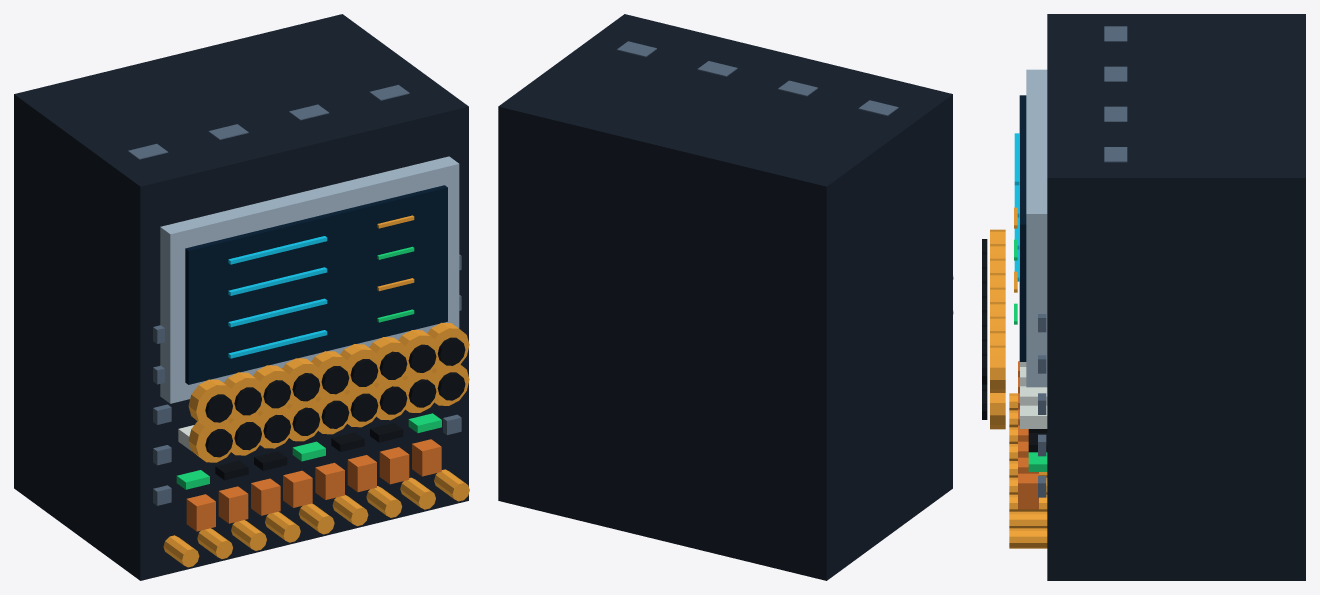
The model's file is 80_L88_ECLSSMasterPLC.fbx.
The picture shows the model from 3 angles, left to right: view 1: azimuth 30°, elevation 25°; view 2: azimuth 150°, elevation 25°; view 3: azimuth 270°, elevation 25°; orthographic projection. The views are drawn at different scales.
Visible parts, largest first — view 1: L87_ECLSSMasterPLC_Part_0000, L87_ECLSSMasterPLC_Part_0002, L87_ECLSSMasterPLC_Part_0001, L87_ECLSSMasterPLC_Part_0009, L87_ECLSSMasterPLC_Part_0004, L87_ECLSSMasterPLC_Part_0008, L87_ECLSSMasterPLC_Part_0003, L87_ECLSSMasterPLC_Part_0007, L87_ECLSSMasterPLC_Part_0005, L87_ECLSSMasterPLC_Part_0028, L87_ECLSSMasterPLC_Part_0010, L87_ECLSSMasterPLC_Part_0034 (+32 smaller); view 2: L87_ECLSSMasterPLC_Part_0000, L87_ECLSSMasterPLC_Part_0008; view 3: L87_ECLSSMasterPLC_Part_0000, L87_ECLSSMasterPLC_Part_0001, L87_ECLSSMasterPLC_Part_0004, L87_ECLSSMasterPLC_Part_0008, L87_ECLSSMasterPLC_Part_0002, L87_ECLSSMasterPLC_Part_0009, L87_ECLSSMasterPLC_Part_0006, L87_ECLSSMasterPLC_Part_0044, L87_ECLSSMasterPLC_Part_0003, L87_ECLSSMasterPLC_Part_0026, L87_ECLSSMasterPLC_Part_0005.
Boxes of the visible parts, x1=… form: L87_ECLSSMasterPLC_Part_0000: x1=14, y1=14, x2=468, y2=580; L87_ECLSSMasterPLC_Part_0002: x1=185, y1=185, x2=447, y2=384; L87_ECLSSMasterPLC_Part_0001: x1=160, y1=156, x2=459, y2=403; L87_ECLSSMasterPLC_Part_0009: x1=186, y1=439, x2=441, y2=531; L87_ECLSSMasterPLC_Part_0004: x1=163, y1=215, x2=469, y2=567; L87_ECLSSMasterPLC_Part_0008: x1=128, y1=85, x2=461, y2=505; L87_ECLSSMasterPLC_Part_0003: x1=228, y1=236, x2=327, y2=358; L87_ECLSSMasterPLC_Part_0007: x1=215, y1=423, x2=403, y2=480; L87_ECLSSMasterPLC_Part_0005: x1=176, y1=246, x2=441, y2=489; L87_ECLSSMasterPLC_Part_0028: x1=188, y1=379, x2=235, y2=427; L87_ECLSSMasterPLC_Part_0010: x1=188, y1=420, x2=235, y2=462; L87_ECLSSMasterPLC_Part_0034: x1=282, y1=358, x2=322, y2=406; L87_ECLSSMasterPLC_Part_0000: x1=498, y1=14, x2=952, y2=580; L87_ECLSSMasterPLC_Part_0008: x1=617, y1=41, x2=898, y2=115; L87_ECLSSMasterPLC_Part_0000: x1=1047, y1=14, x2=1305, y2=580; L87_ECLSSMasterPLC_Part_0001: x1=1026, y1=69, x2=1047, y2=387; L87_ECLSSMasterPLC_Part_0004: x1=1009, y1=207, x2=1047, y2=548; L87_ECLSSMasterPLC_Part_0008: x1=1038, y1=26, x2=1127, y2=497; L87_ECLSSMasterPLC_Part_0002: x1=1019, y1=95, x2=1026, y2=361; L87_ECLSSMasterPLC_Part_0009: x1=1018, y1=361, x2=1038, y2=509; L87_ECLSSMasterPLC_Part_0006: x1=1020, y1=362, x2=1047, y2=428; L87_ECLSSMasterPLC_Part_0044: x1=990, y1=345, x2=1005, y2=392; L87_ECLSSMasterPLC_Part_0003: x1=1014, y1=133, x2=1019, y2=281; L87_ECLSSMasterPLC_Part_0026: x1=990, y1=393, x2=1005, y2=429; L87_ECLSSMasterPLC_Part_0005: x1=1014, y1=239, x2=1047, y2=471.
Bounding box in the file's own units: 104 × 120 × 86.88.
